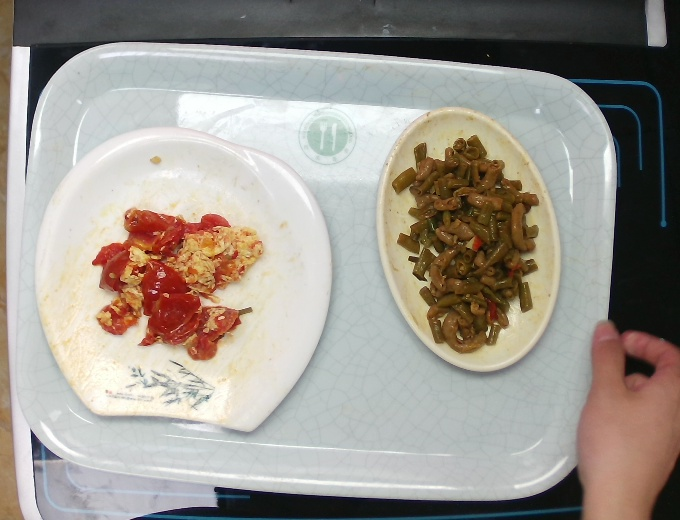JYsf-Mian_Pan: (28, 121, 339, 443)
JYsf-Tuo_Yuan_Wan: (368, 101, 570, 383)
